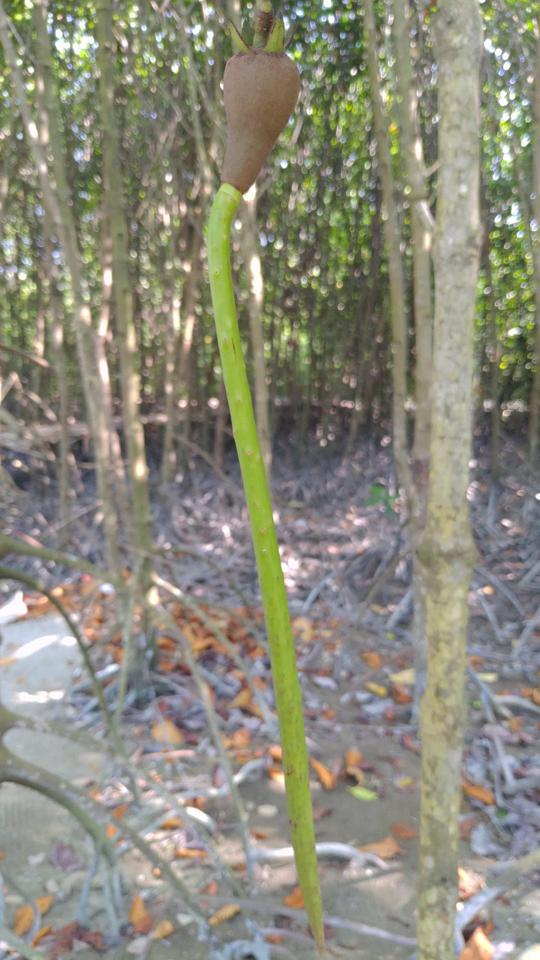setengah matang: (197, 16, 345, 952)
